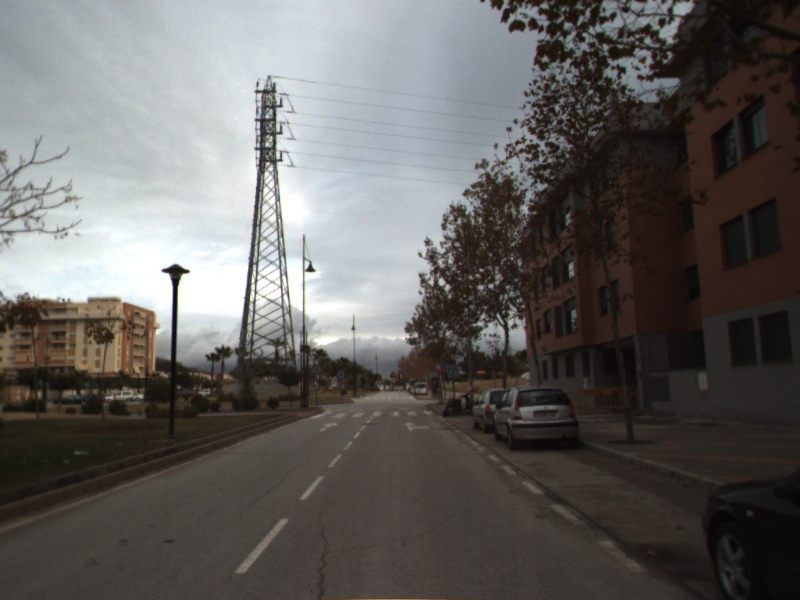STRAIGHT: (318, 420, 340, 433)
STRAIGHT_RIGHT: (400, 420, 433, 433)
